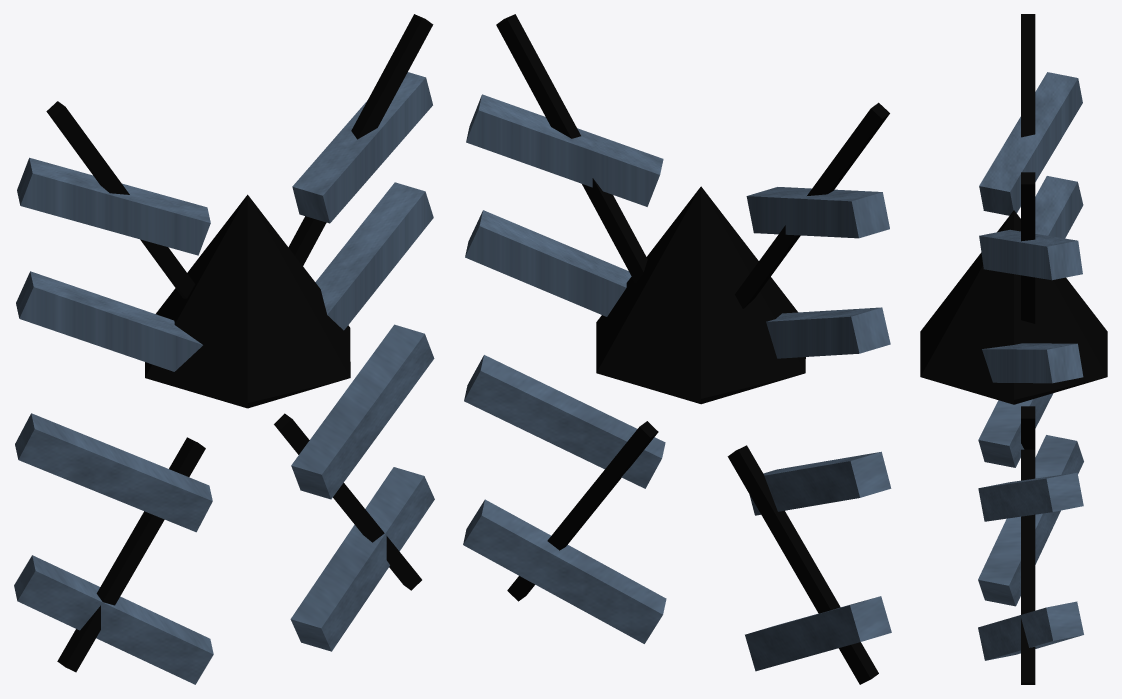
Rendered from rival_mother_heart.obj.
3 renders of one model, left to right at view 1: azimuth 30°, elevation 25°; view 2: azimuth 150°, elevation 25°; view 3: azimuth 270°, elevation 25°, orthographic. The views are drawn at different scales.
Visible parts, largest first — view 1: rival_mother_heart; view 2: rival_mother_heart; view 3: rival_mother_heart.
Part boxes in pixels (x1=…): rival_mother_heart: x1=14, y1=14, x2=434, y2=684; rival_mother_heart: x1=463, y1=14, x2=891, y2=684; rival_mother_heart: x1=920, y1=14, x2=1107, y2=684.
Bounding box in the file's own units: 0.4824 × 0.6519 × 0.2057.
